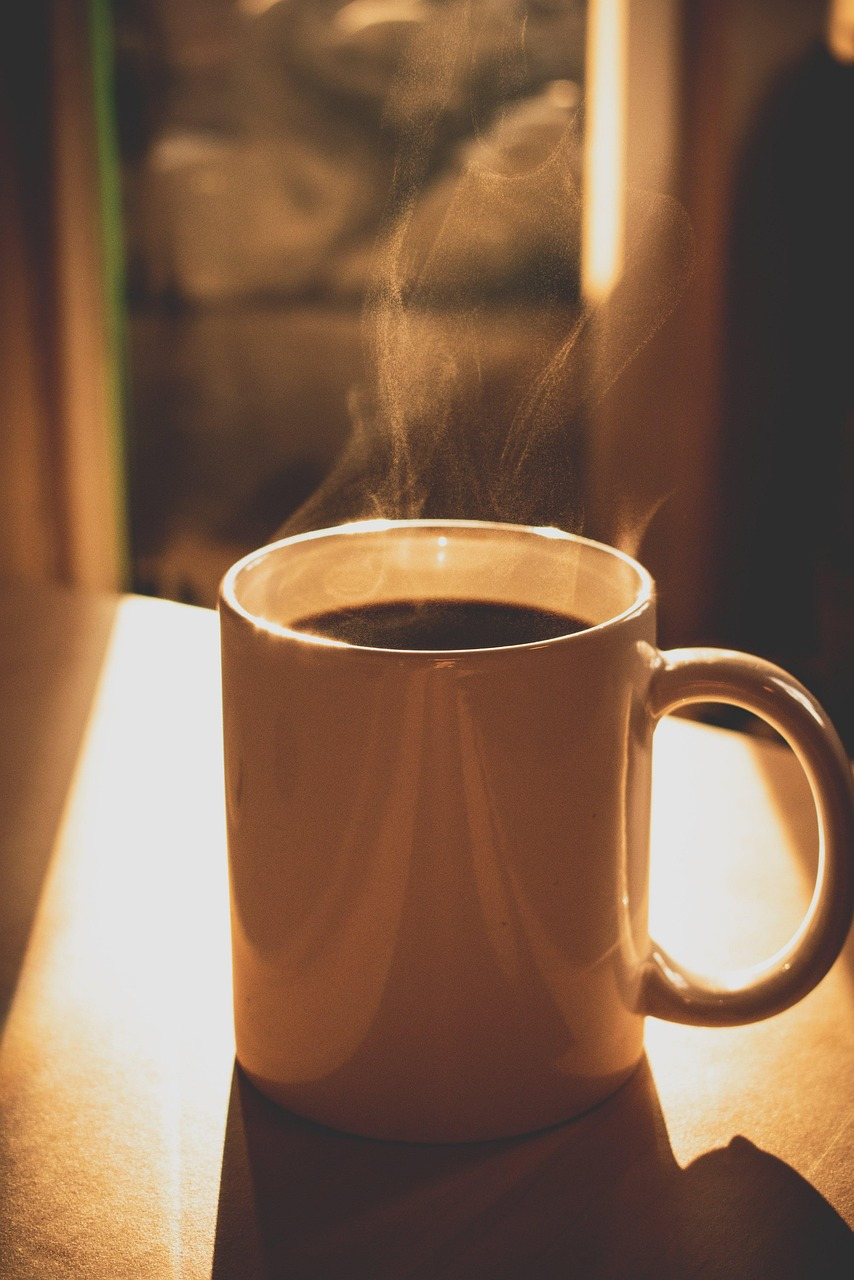mug: (148, 515, 854, 1181)
